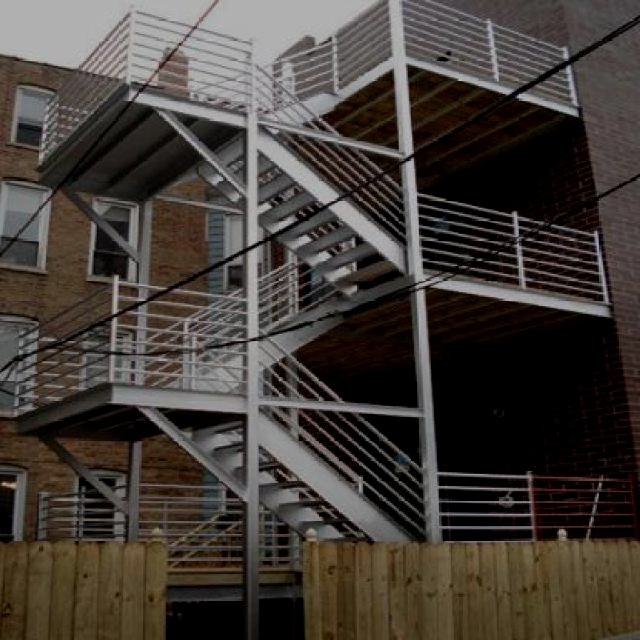stair: (80, 41, 469, 296), (181, 321, 437, 545)
